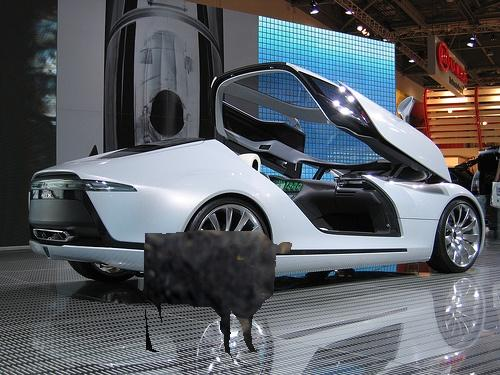tampered: (144, 231, 292, 361)
